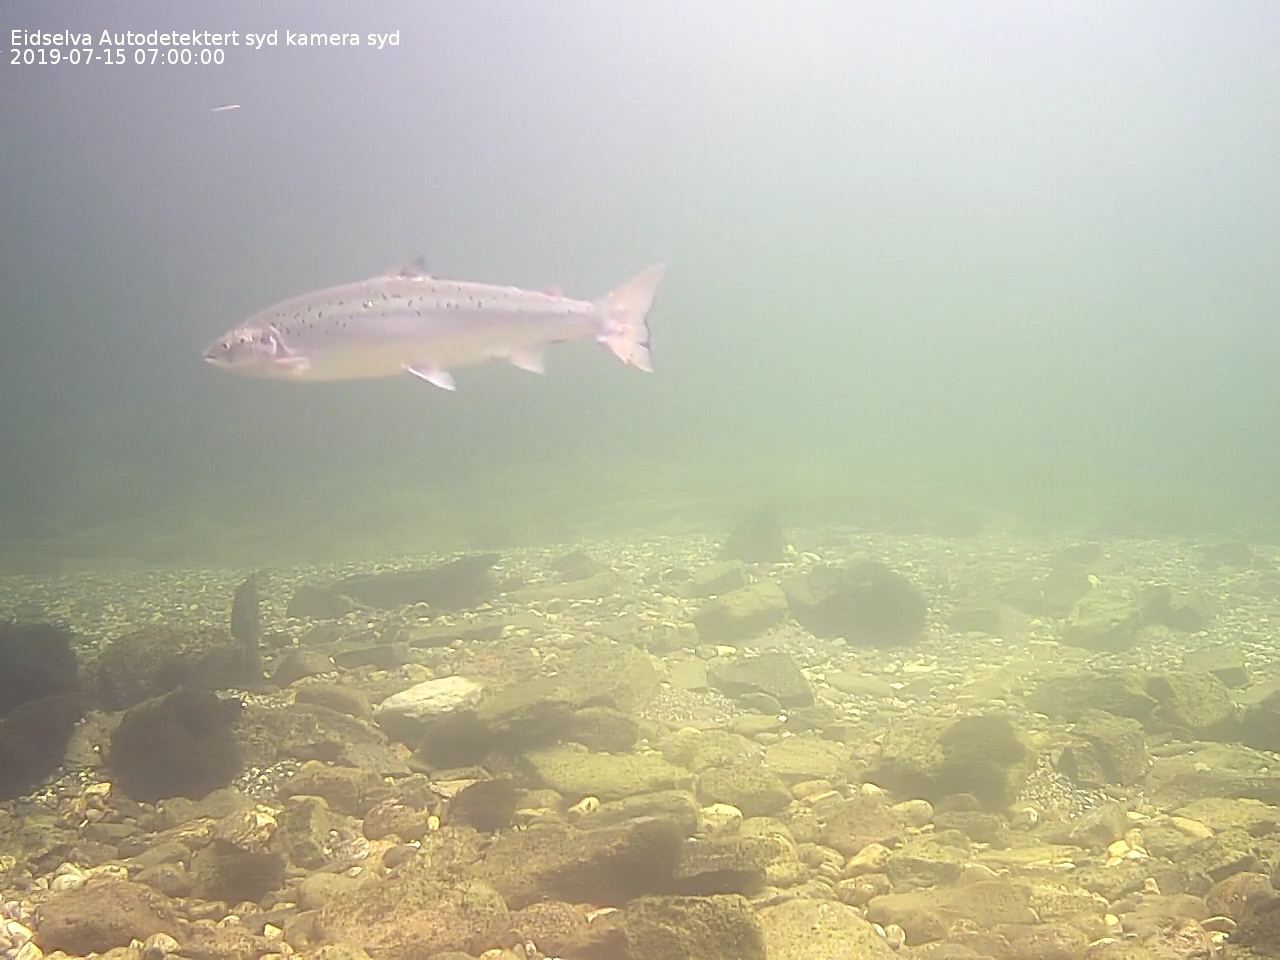salmon: (196, 247, 674, 400)
